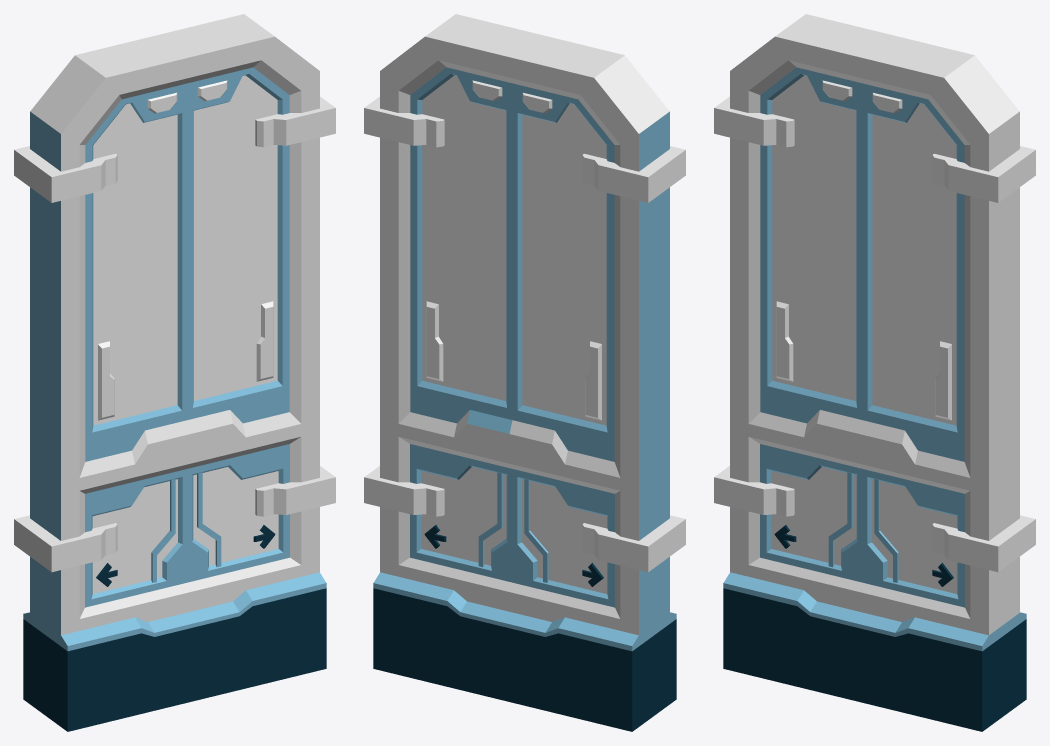
File: door_single_small_a.001.fbx
3 renders of one model, left to right at view 1: azimuth 30°, elevation 25°; view 2: azimuth 150°, elevation 25°; view 3: azimuth 330°, elevation 25°, orthographic.
Visible parts, largest first — view 1: door_single_small_a.001; view 2: door_single_small_a.001; view 3: door_single_small_a.001.
Boxes of the visible parts, x1,y1,x2,y2 form: door_single_small_a.001: [14, 14, 335, 731]; door_single_small_a.001: [364, 14, 685, 731]; door_single_small_a.001: [714, 14, 1035, 731].
Bounding box in the file's own units: 0.8366 × 1.8 × 0.2257.
